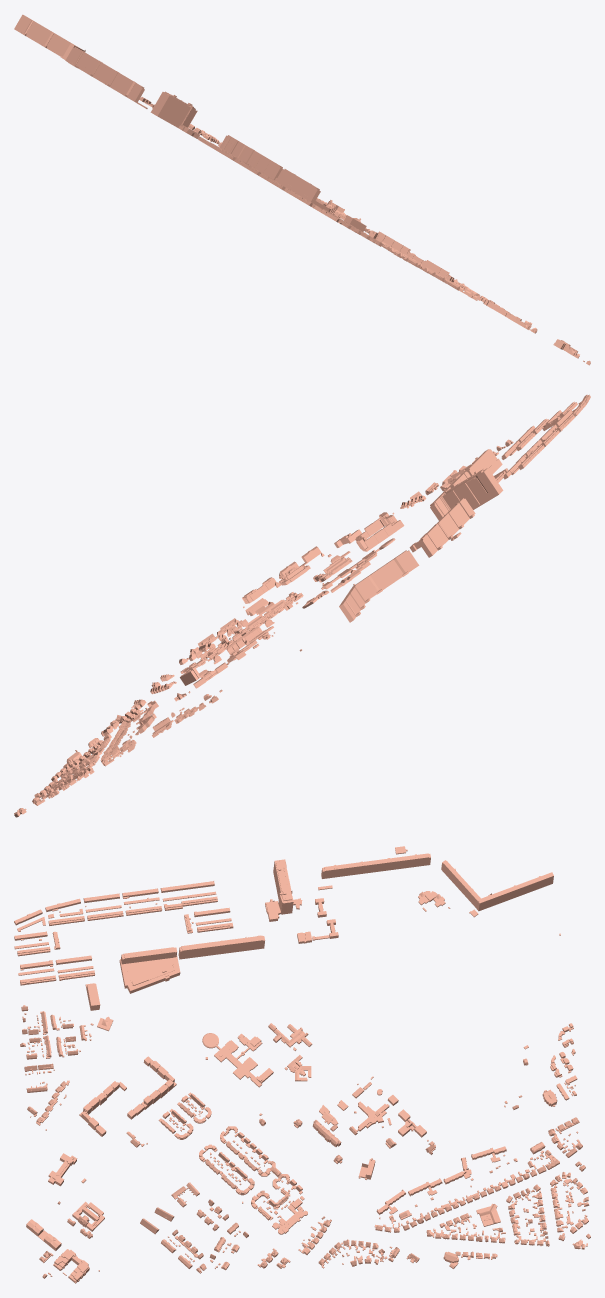
3 views of the same model, one above another, from view 1: azimuth 30°, elevation 25°; view 2: azimuth 150°, elevation 25°; view 3: azimuth 270°, elevation 25° (orthographic). The views are drawn at different scales.
Bounding box in the file's own units: 892 × 650 × 1257.
